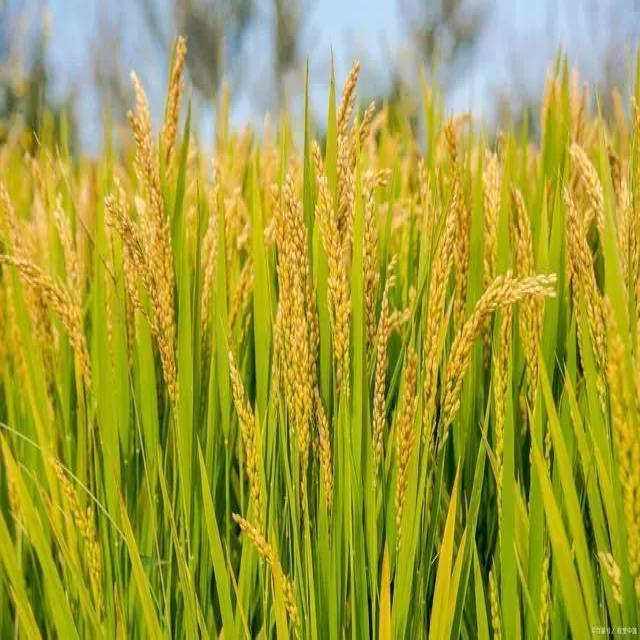Padi: (234, 50, 394, 472), (418, 72, 548, 562), (86, 34, 210, 368), (0, 74, 104, 440), (562, 104, 640, 506)
